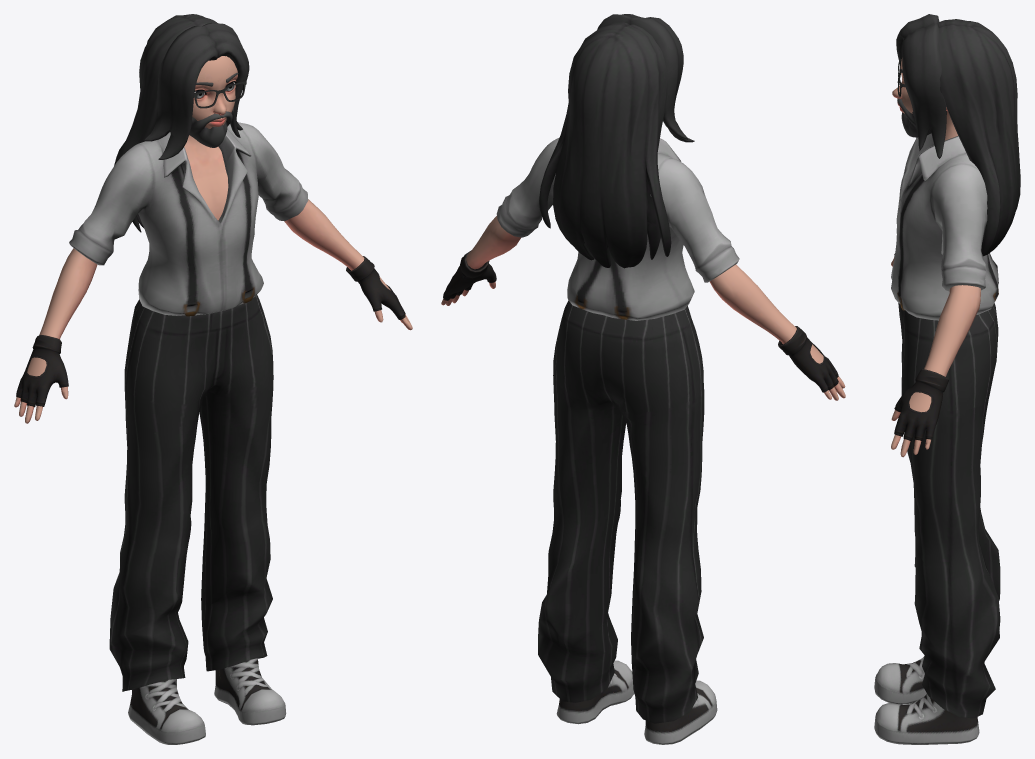
The model's file is StaffHippi_Mesh.obj.
The picture shows the model from 3 angles, left to right: view 1: azimuth 30°, elevation 25°; view 2: azimuth 150°, elevation 25°; view 3: azimuth 270°, elevation 25°; orthographic projection.
Visible parts, largest first — view 1: StaffHippi_Mesh_0; view 2: StaffHippi_Mesh_0; view 3: StaffHippi_Mesh_0.
Boxes of the visible parts, x1,y1,x2,y2 form: StaffHippi_Mesh_0: (14,14,412,744); StaffHippi_Mesh_0: (441,14,845,744); StaffHippi_Mesh_0: (874,14,1020,744).
Bounding box in the file's own units: 1.06 × 1.8 × 0.3442.
1 material, 1 textured.
